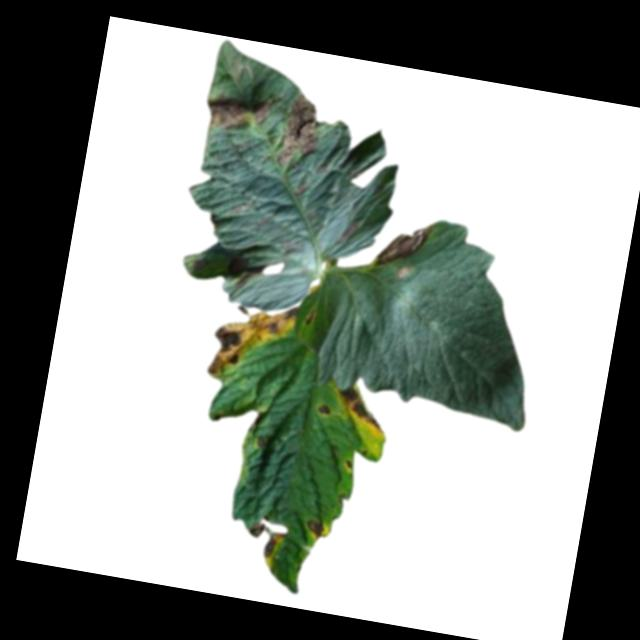Early_blight: (207, 293, 308, 390), (201, 89, 280, 144), (274, 92, 326, 175), (372, 212, 436, 279), (332, 384, 395, 435), (243, 520, 283, 562), (303, 517, 329, 542), (316, 404, 334, 421)
